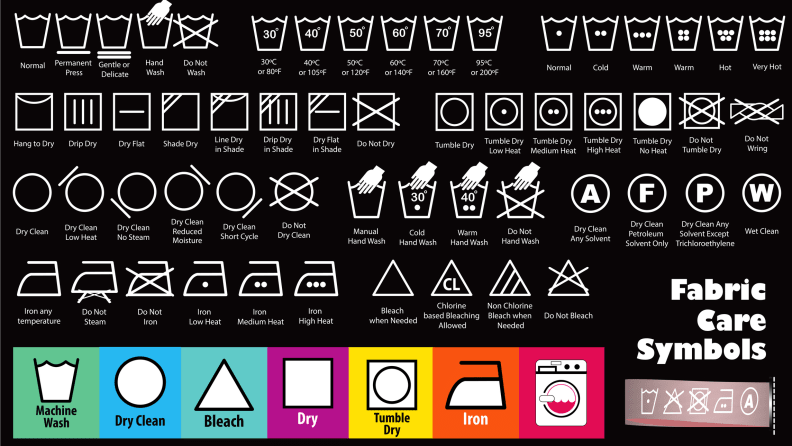do_not_bleach: (540, 258, 601, 301)
do_not_dry_clean: (264, 169, 325, 215)
do_not_iron: (120, 255, 180, 302)
do_not_wash: (173, 11, 222, 53)
